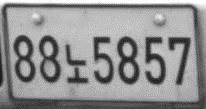5: (144, 36, 166, 84), (93, 36, 114, 84)
7: (167, 36, 191, 85)
8: (116, 35, 139, 85), (13, 34, 36, 83), (38, 34, 61, 83)
노: (65, 43, 88, 83)
